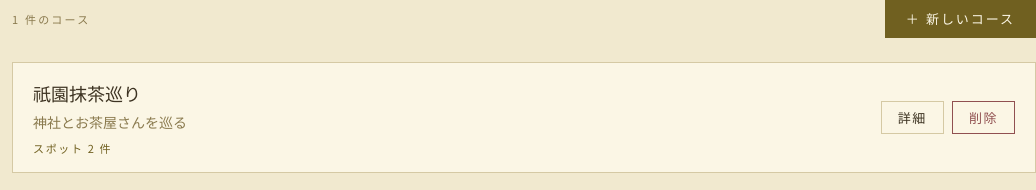
Test: RouteList › 一覧を表示し、削除すると行が消える
The image size is (1036, 190).
Expected: the link "祇園抹茶巡り" is shown, [33,80,141,106]
Expected: the text "スポット 2 件" is shown, [33,140,112,156]
Click the button "削除".
click(983, 117)  # box [952,101,1015,134]
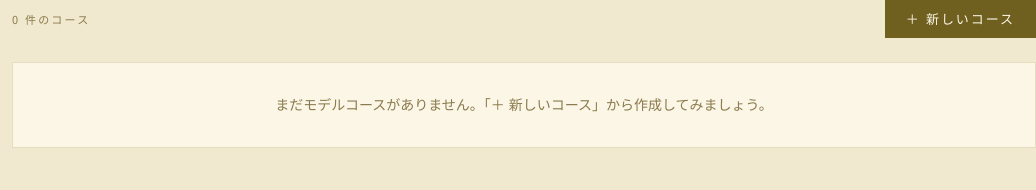
Expected: the link "祇園抹茶巡り" is gone
